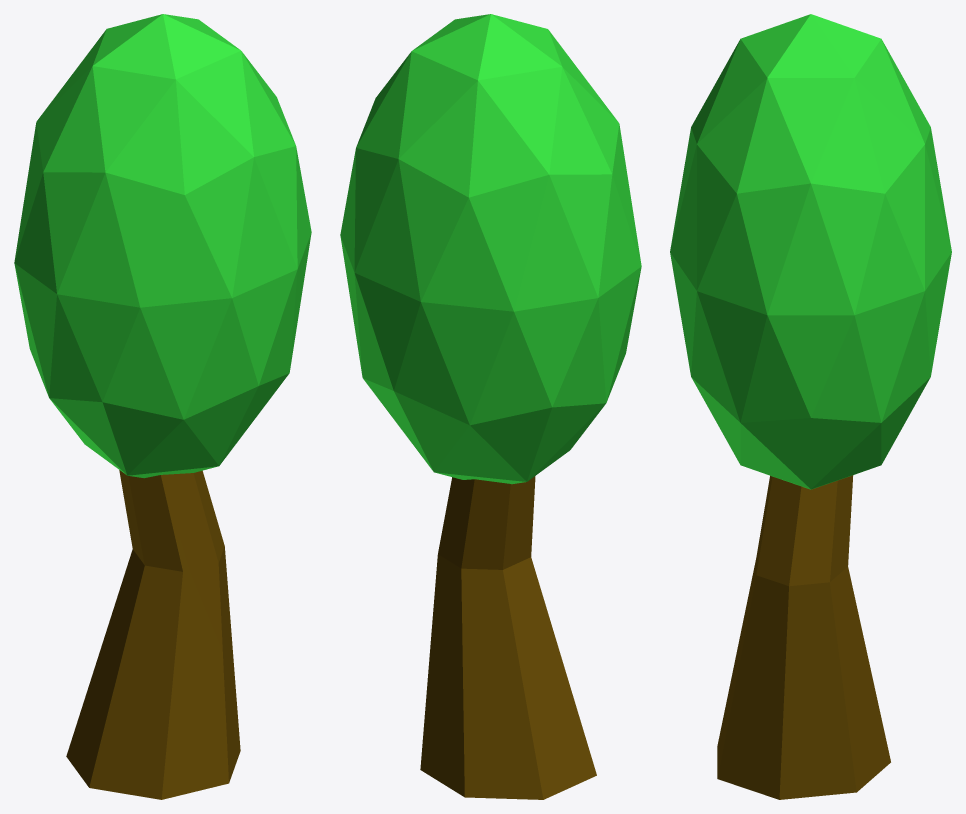
The model's file is tree2.glb.
3 views of the same model, side by side, from view 1: azimuth 30°, elevation 25°; view 2: azimuth 150°, elevation 25°; view 3: azimuth 270°, elevation 25° (orthographic).
Visible parts, largest first — view 1: Icosphere.001, Cylinder.012; view 2: Icosphere.001, Cylinder.012; view 3: Icosphere.001, Cylinder.012.
Boxes of the visible parts, box(x1,y1,x2,y2) form: Icosphere.001: box(14, 14, 311, 478); Cylinder.012: box(66, 470, 240, 799); Icosphere.001: box(340, 14, 641, 484); Cylinder.012: box(420, 476, 596, 799); Icosphere.001: box(670, 14, 951, 489); Cylinder.012: box(717, 475, 890, 799).
Size of the model in its own units: 2.19 by 6.09 by 2.06.
